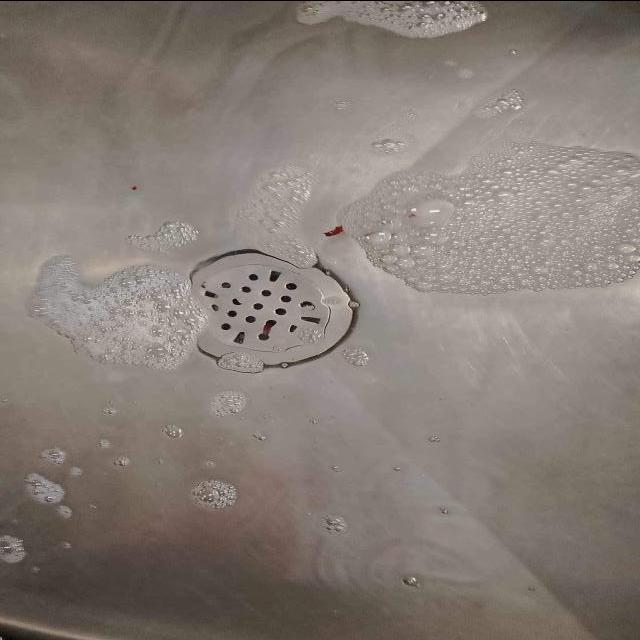General: (186, 244, 361, 374)
Infectious: (331, 137, 638, 295), (24, 252, 205, 370)
